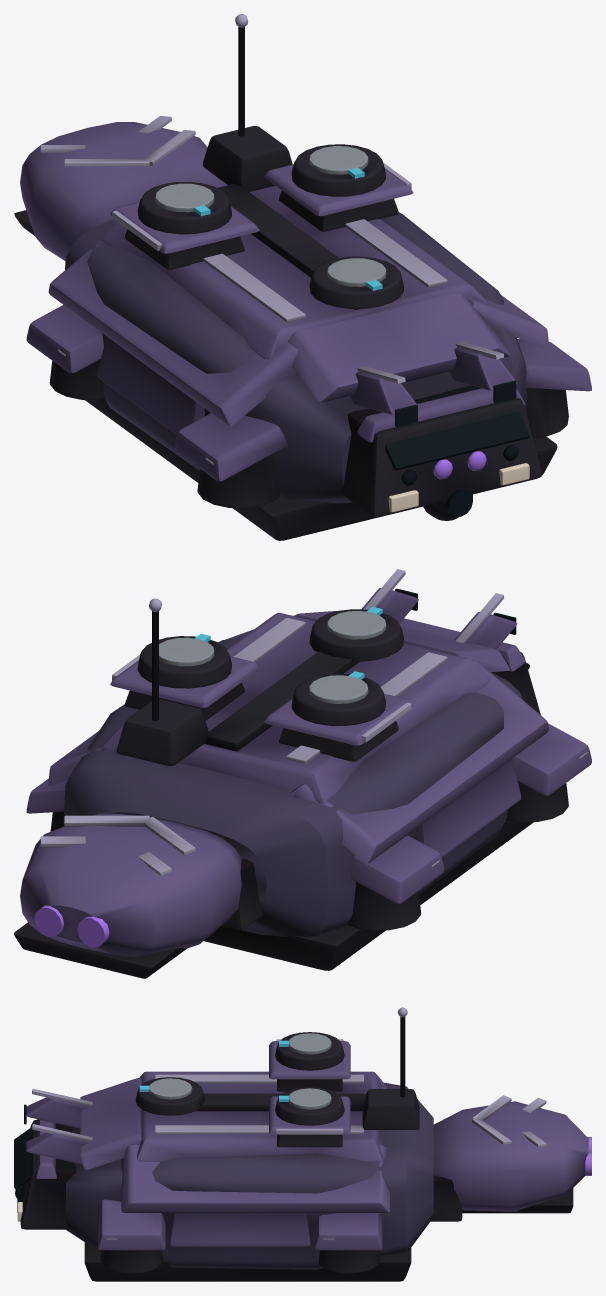
Rendered from ex_strider_4.glb.
3 renders of one model, top to bottom at view 1: azimuth 30°, elevation 25°; view 2: azimuth 150°, elevation 25°; view 3: azimuth 270°, elevation 25°, orthographic. The views are drawn at different scales.
Parts seen in each view (by area): view 1: body; view 2: body; view 3: body.
Part boxes in pixels (x1=…): body: x1=14, y1=14, x2=591, y2=540; body: x1=14, y1=569, x2=591, y2=978; body: x1=14, y1=1007, x2=591, y2=1281.
Size of the model in its own units: 4.63 by 3.9 by 8.41.
